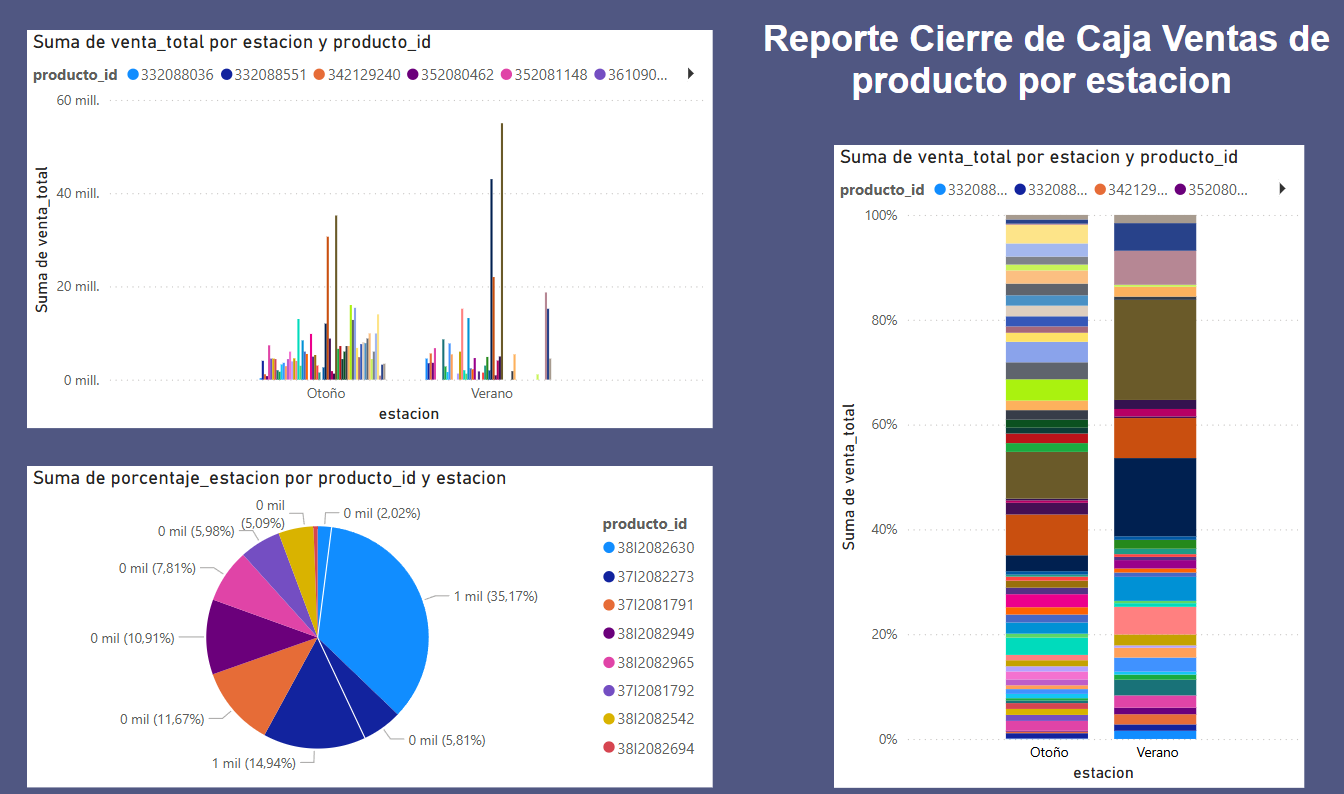

The page's visual inventory and layout, read from the dashboard file:
{"tool":"powerbi","page":{"name":"Página 6","canvas":[1280,720],"ordinal":4},"visuals":[{"type":"clusteredColumnChart","fields":{"Category":["kpi4_ventas_producto_estacion.estacion"],"Series":["kpi4_ventas_producto_estacion.producto_id"],"Y":["Sum(kpi4_ventas_producto_estacion.venta_total)"]},"box":[66.7,40,608.3,353.3],"z":0},{"type":"hundredPercentStackedColumnChart","fields":{"Category":["kpi4_ventas_producto_estacion.estacion"],"Series":["kpi4_ventas_producto_estacion.producto_id"],"Y":["Sum(kpi4_ventas_producto_estacion.venta_total)"]},"box":[781.7,141.7,416.7,570],"z":1000},{"type":"pieChart","fields":{"Category":["kpi4_top_productos_estacion.producto_id"],"Series":["kpi4_top_productos_estacion.estacion"],"Y":["Sum(kpi4_top_productos_estacion.porcentaje_estacion)"]},"box":[66.7,426.7,608.3,285],"z":2000},{"type":"textbox","box":[675,25,591.7,103.3],"z":2001}]}

Visuals, with their boxes on the page's 1280x720 design canvas (x1, y1, x2, y2). These are canvas units, not pixel positions in the 1344x794 screenshot, which may show the page scaled, cropped or inside an application window:
clusteredColumnChart - kpi4_ventas_producto_estacion.estacion x kpi4_ventas_producto_estacion.producto_id: 67, 40, 675, 393
hundredPercentStackedColumnChart - kpi4_ventas_producto_estacion.estacion x kpi4_ventas_producto_estacion.producto_id: 782, 142, 1198, 712
pieChart - kpi4_top_productos_estacion.producto_id x kpi4_top_productos_estacion.estacion: 67, 427, 675, 712
textbox: 675, 25, 1267, 128
